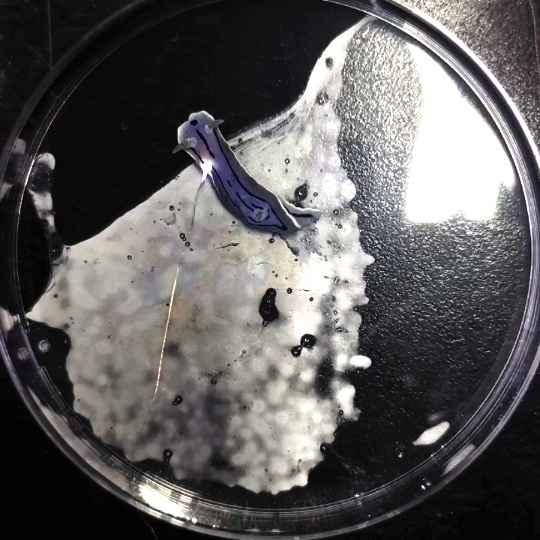sea-slug: (92, 103, 286, 226)
